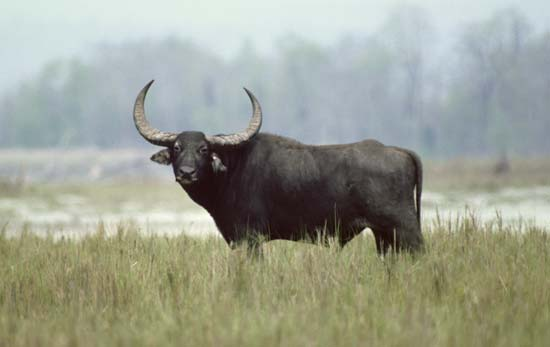buffalo: (131, 74, 429, 269)
